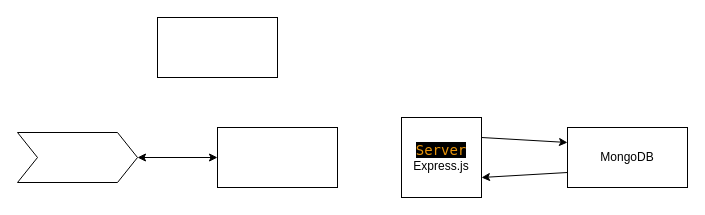
This 705x215 diagram has some shape labels left out. Here are the shapes that lost their labels. From the top down, the box of each, then its label:
(156, 16, 278, 78): Trình duyệt web
(216, 126, 338, 188): UI (Handlebars)
